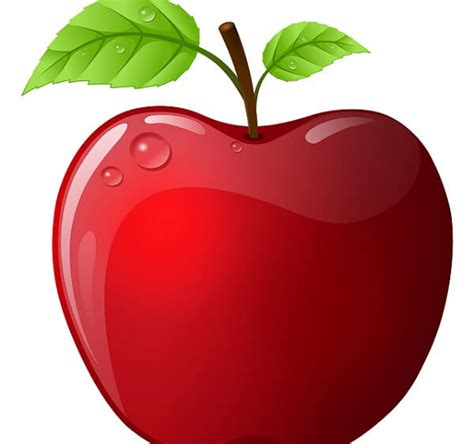apple: (49, 98, 460, 444)
